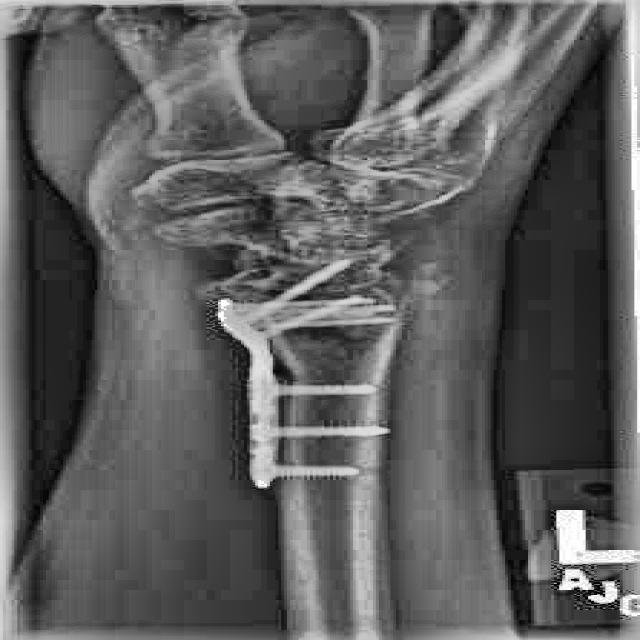wrist positive: (231, 295, 430, 366)
